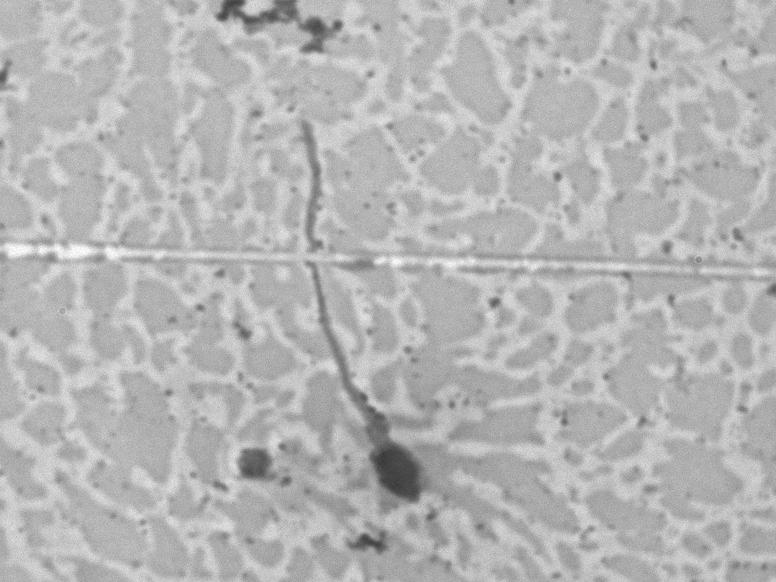Abnormal: (284, 102, 436, 528)
